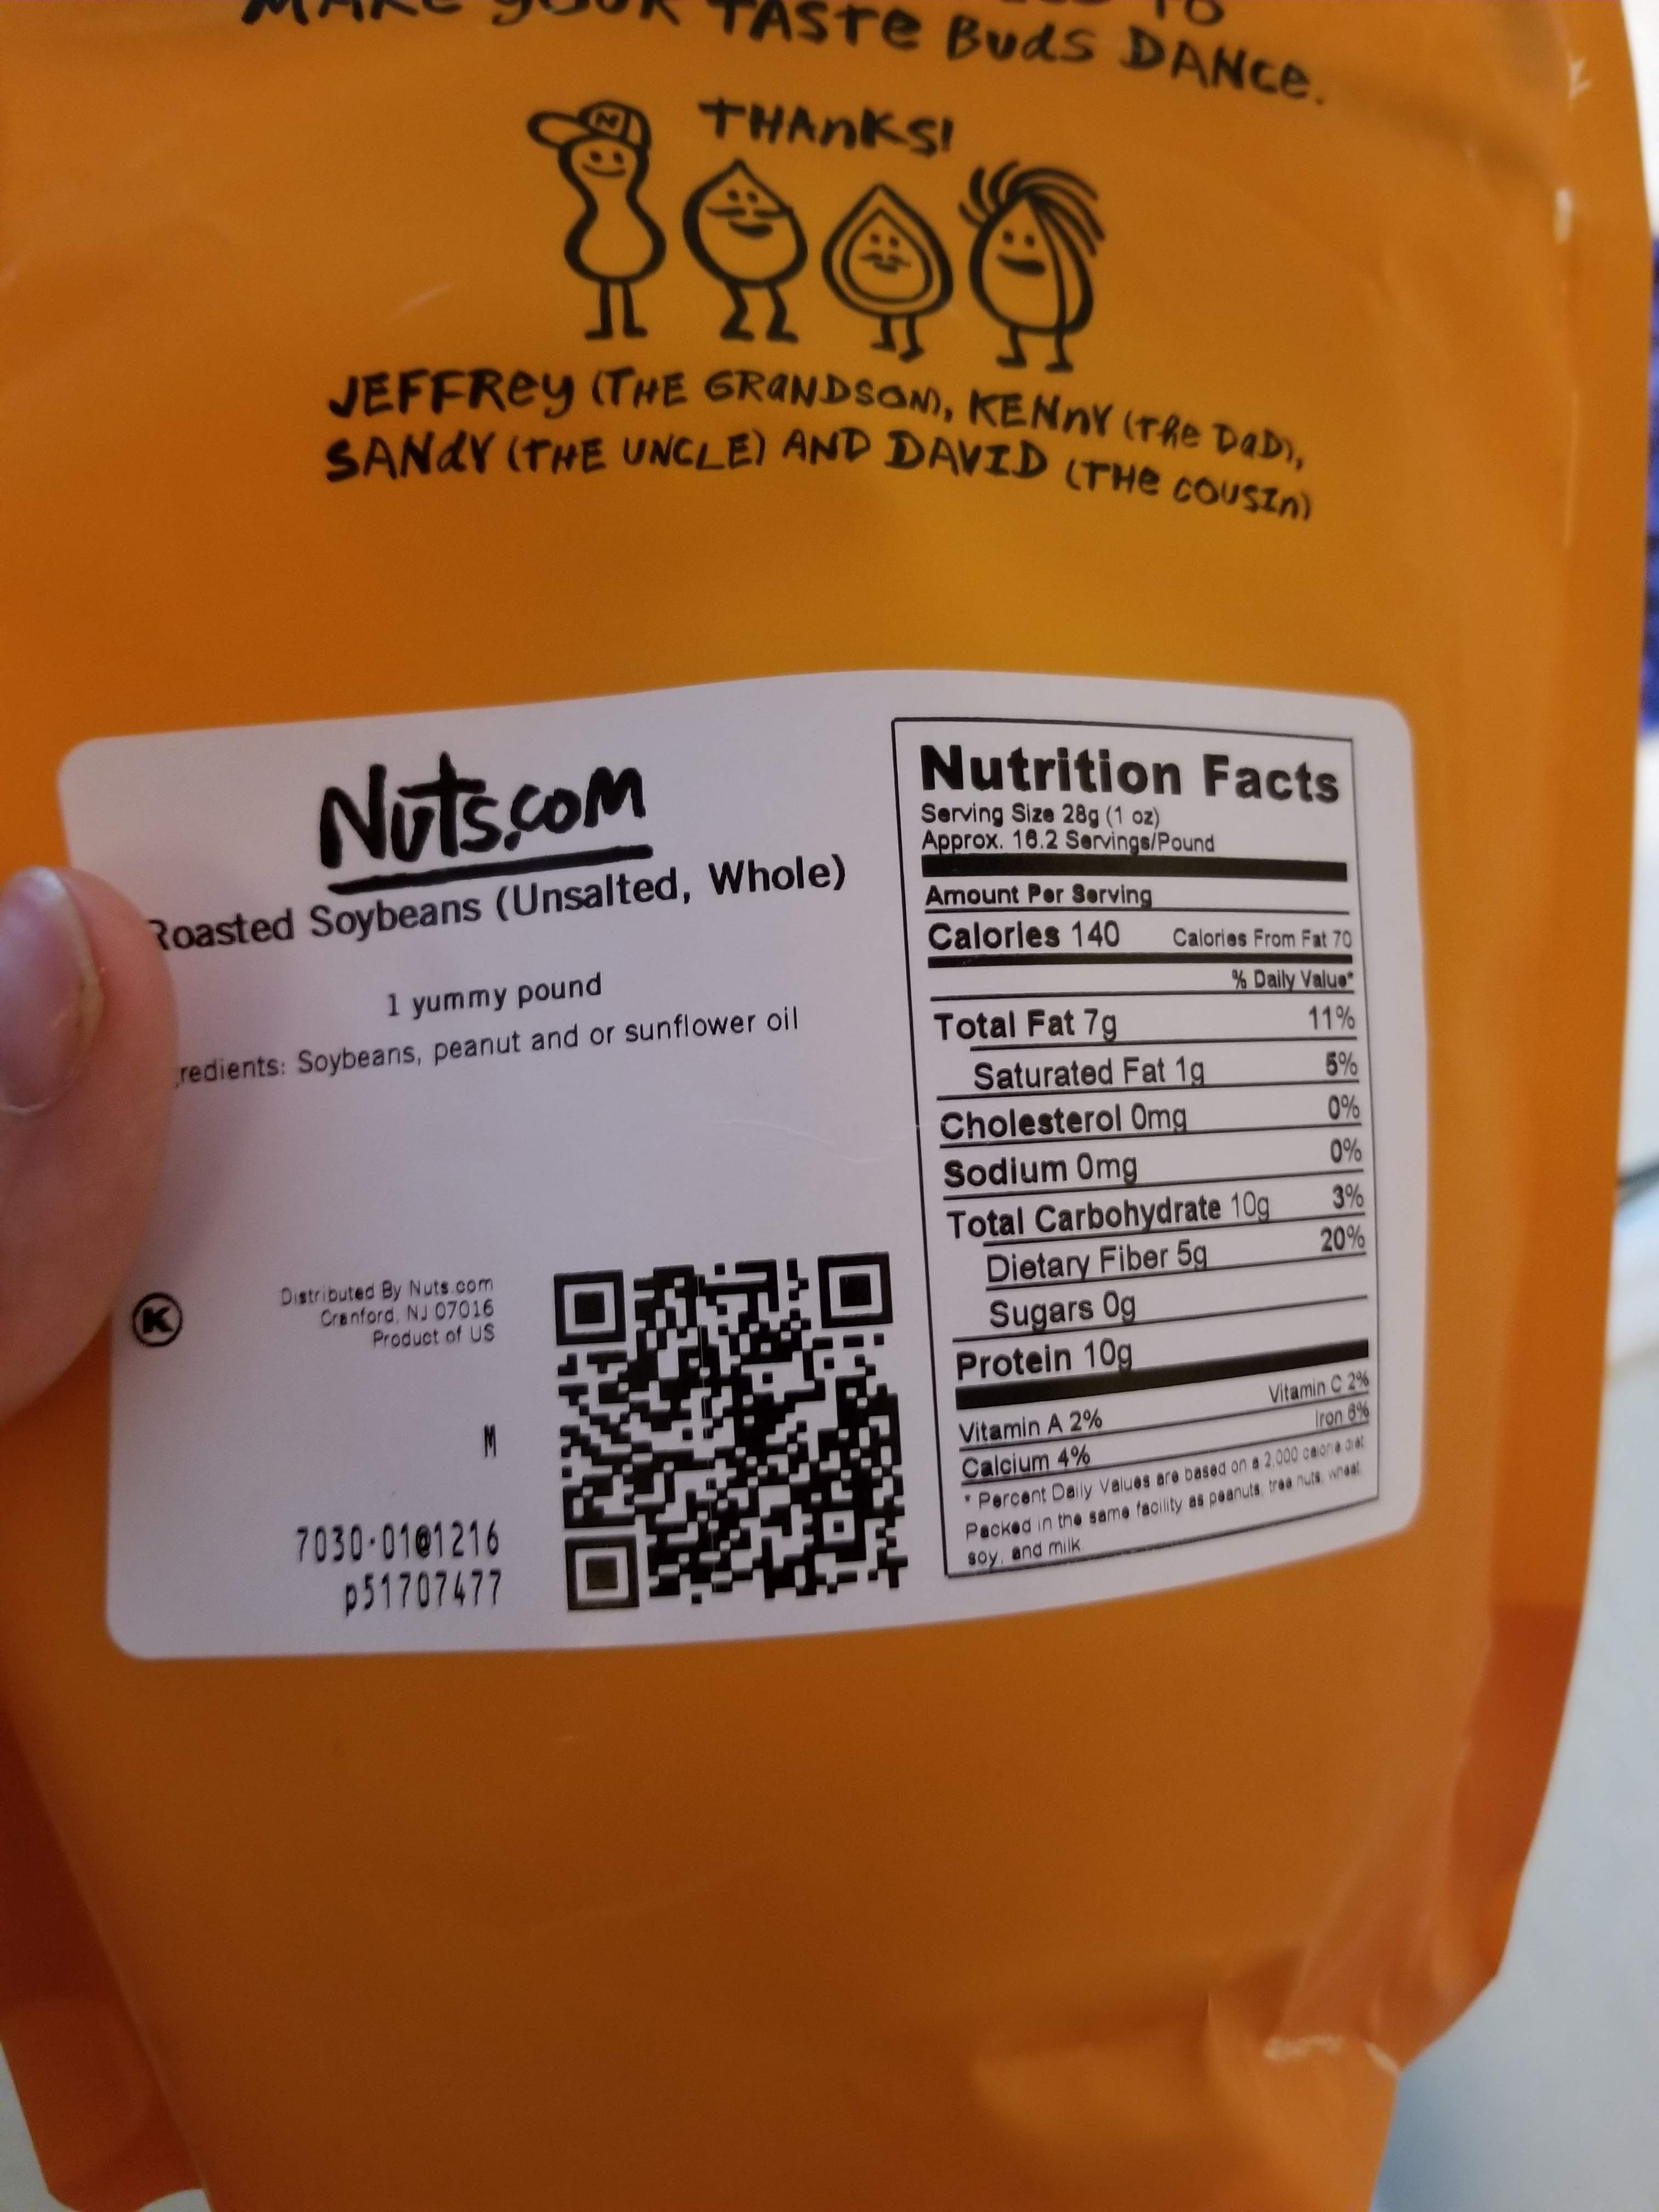QR_CODE: (514, 1216, 938, 1629)
